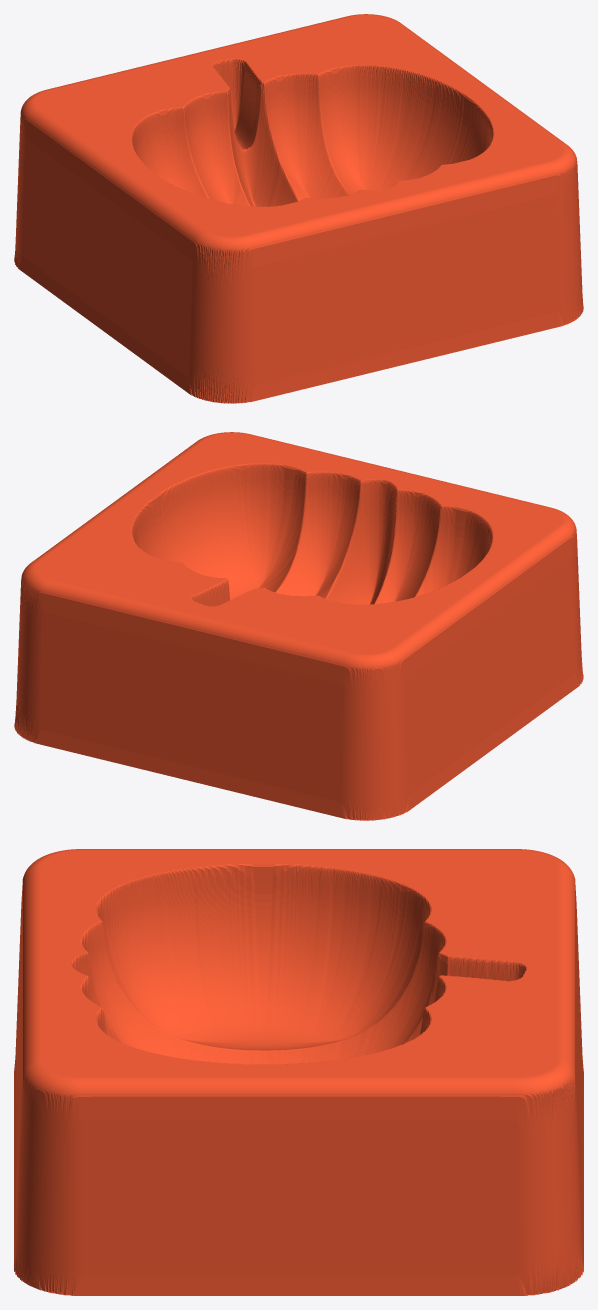
Rendered from mold.glb.
3 views of the same model, one above another, from view 1: azimuth 30°, elevation 25°; view 2: azimuth 150°, elevation 25°; view 3: azimuth 270°, elevation 25° (orthographic). The views are drawn at different scales.
Parts seen in each view (by area): view 1: geometry_0; view 2: geometry_0; view 3: geometry_0.
Boxes of the visible parts, x1=… form: geometry_0: x1=14, y1=14, x2=583, y2=403; geometry_0: x1=14, y1=432, x2=583, y2=820; geometry_0: x1=14, y1=849, x2=583, y2=1295.
Bounding box in the file's own units: 0.0798 × 0.031 × 0.0772.
